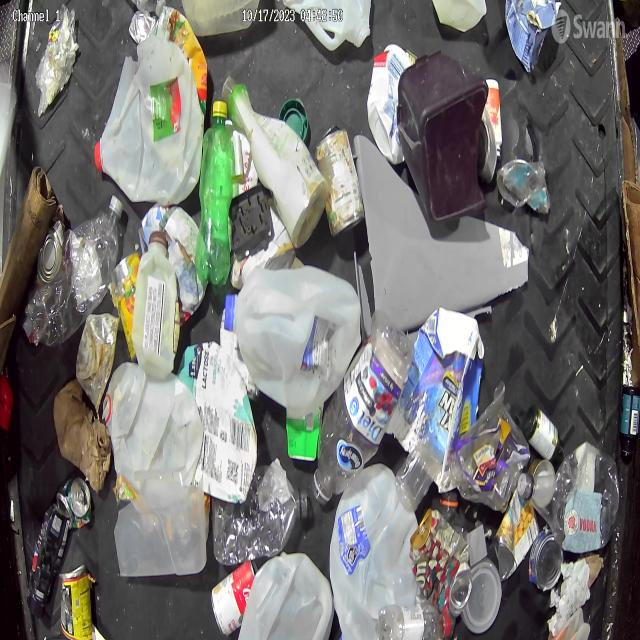can: (410, 508, 472, 616), (316, 125, 364, 237), (493, 489, 540, 582), (527, 528, 563, 589), (56, 474, 92, 529), (38, 228, 62, 282)
milk_jug: (227, 262, 363, 415), (94, 39, 202, 204), (331, 464, 420, 640), (105, 362, 206, 491), (235, 551, 333, 640), (282, 0, 372, 51)
plastic_bottle: (312, 310, 415, 508), (211, 465, 308, 565), (68, 195, 128, 307), (376, 604, 451, 640)
